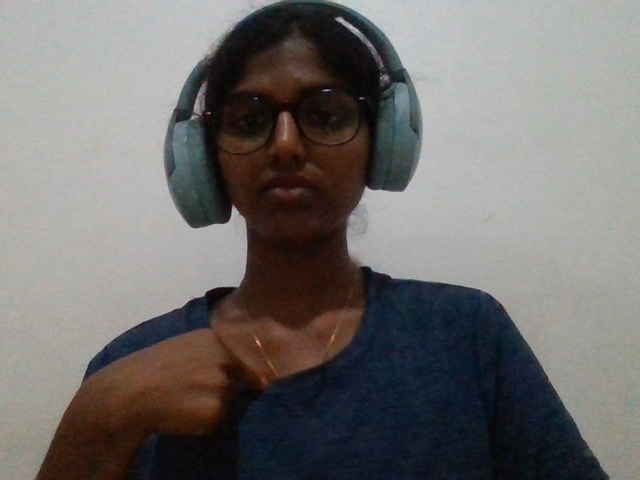Me: (53, 301, 315, 480)
